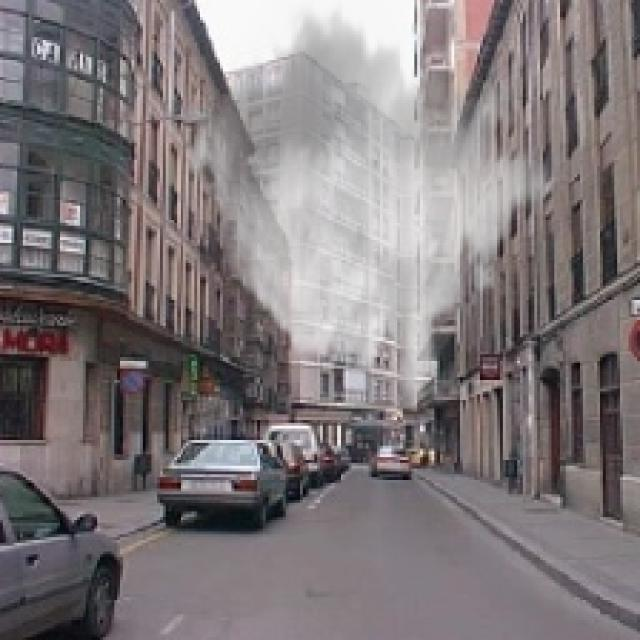Smoke: (182, 0, 554, 403)
